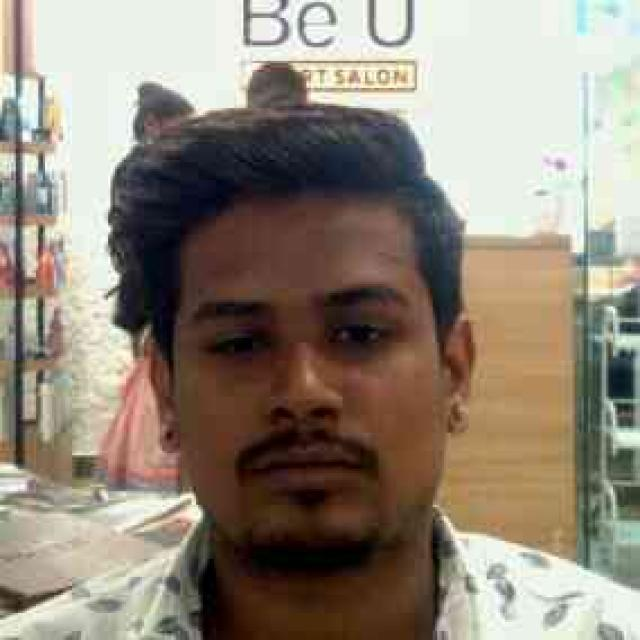Puffy Eyes - v3 Dark Circle: (329, 342, 379, 362)
